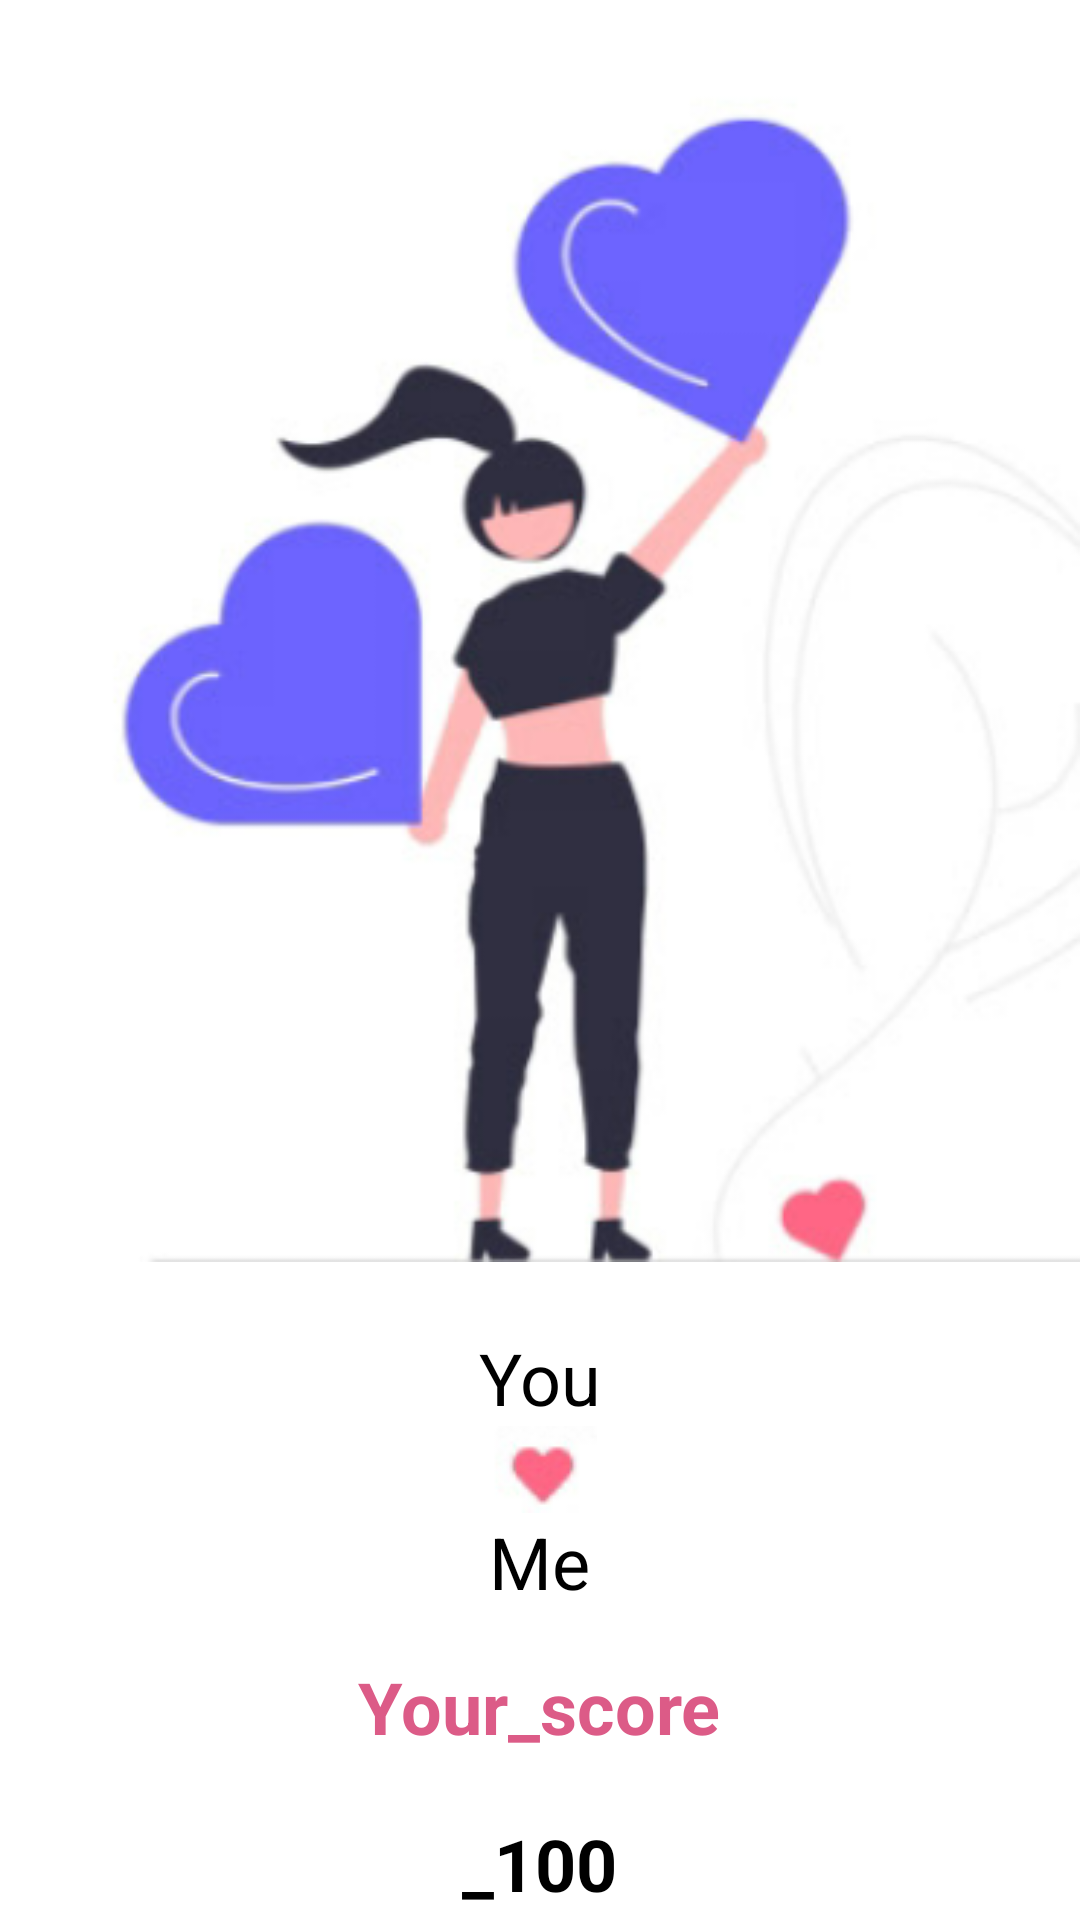

Named icons in this screenshot (1080*1920) and their bounding boxes, (x1, y1, x2, y2):
little heart: (510, 1446, 576, 1504)
